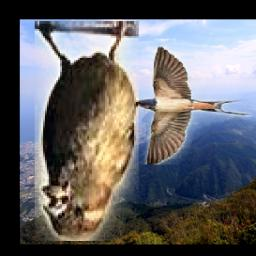Sparrow: (36, 21, 140, 241)
Swallow: (130, 47, 252, 165)
